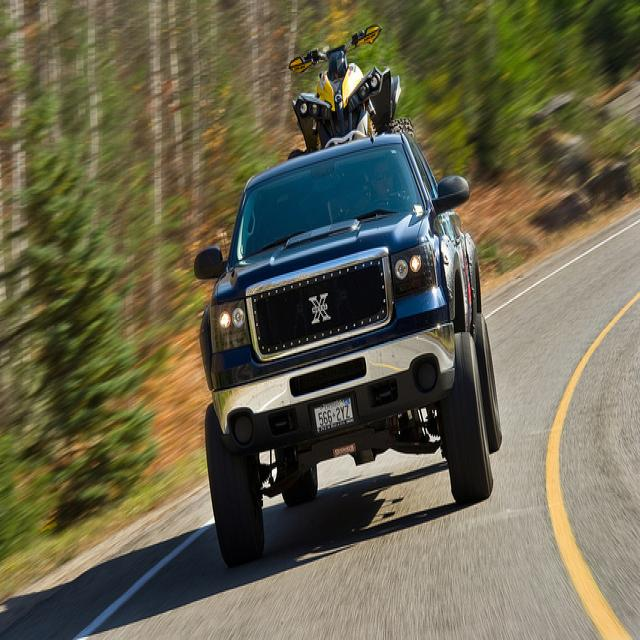motor: (284, 21, 398, 153)
